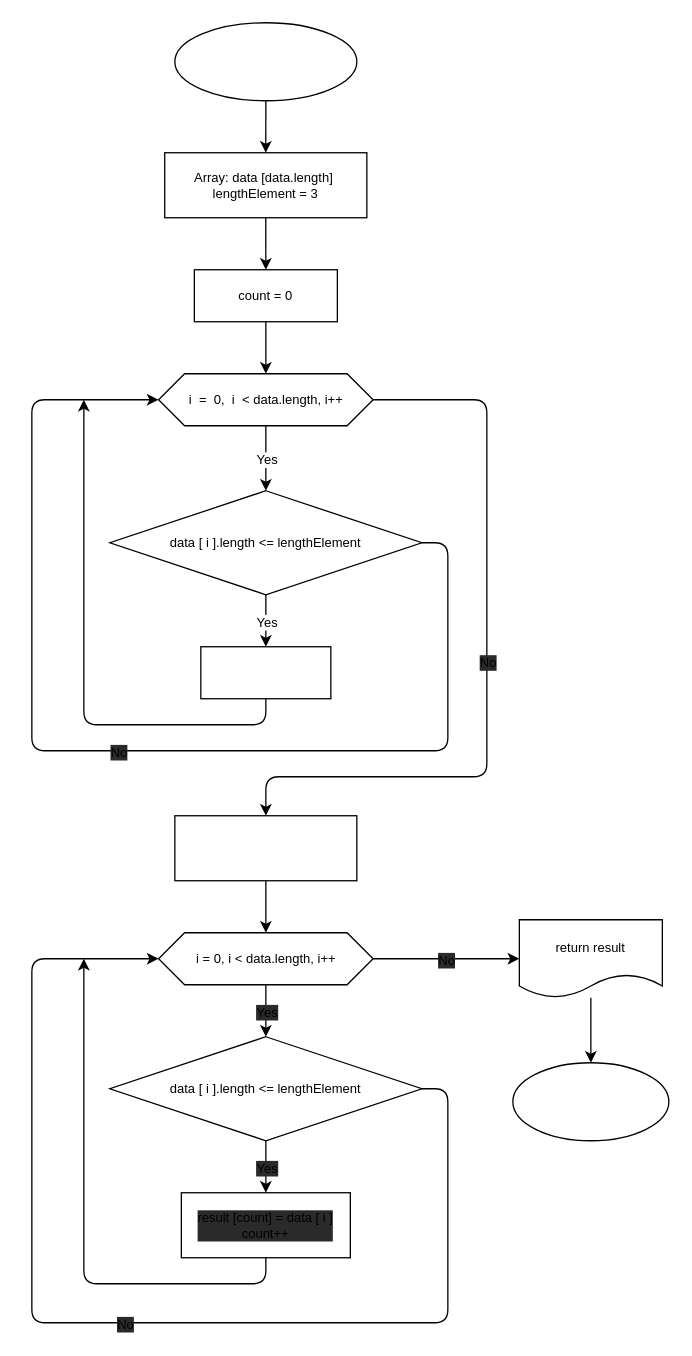
This 692x1356 diagram has some shape labels left out. The box of each missing label's shape, as (x1, y1, x2, y2) in pixels:
count++: (200, 645, 331, 699)
Create array: result [count] count = 0: (174, 814, 357, 881)
Finish: (512, 1061, 669, 1141)
Start: (174, 21, 357, 101)
